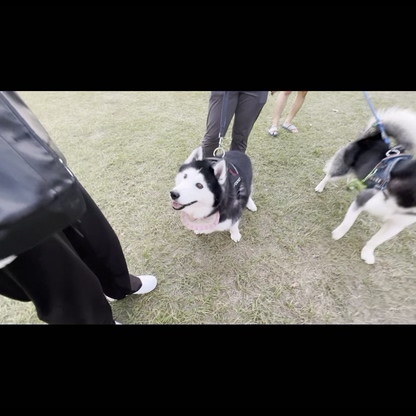husky: (165, 142, 261, 245)
